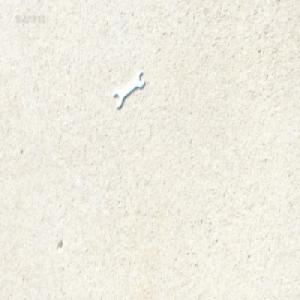Wrench: (113, 69, 146, 108)
